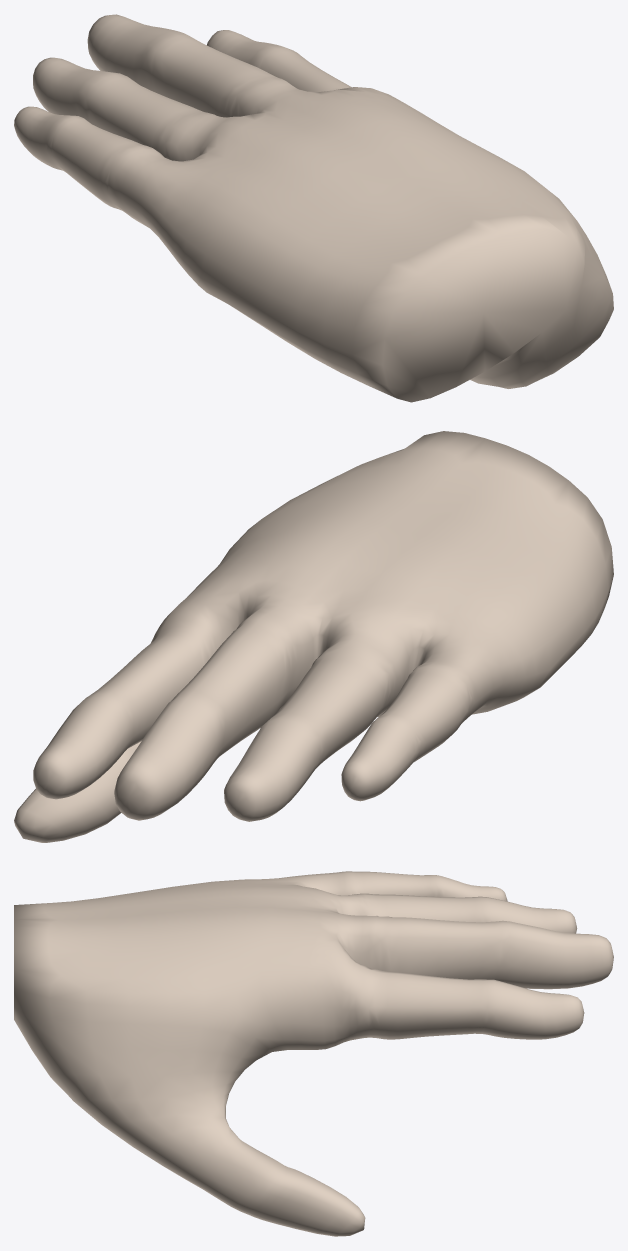
3 renders of one model, top to bottom at view 1: azimuth 30°, elevation 25°; view 2: azimuth 150°, elevation 25°; view 3: azimuth 270°, elevation 25°, orthographic. The views are drawn at different scales.
Visible parts, largest first — view 1: best_highpoly_hand; view 2: best_highpoly_hand; view 3: best_highpoly_hand.
Part boxes in pixels (x1,y1,x2,y2): best_highpoly_hand: (14,14,613,402); best_highpoly_hand: (14,431,613,842); best_highpoly_hand: (14,871,613,1236).
Bounding box in the file's own units: 0.9948 × 0.6467 × 1.48.
